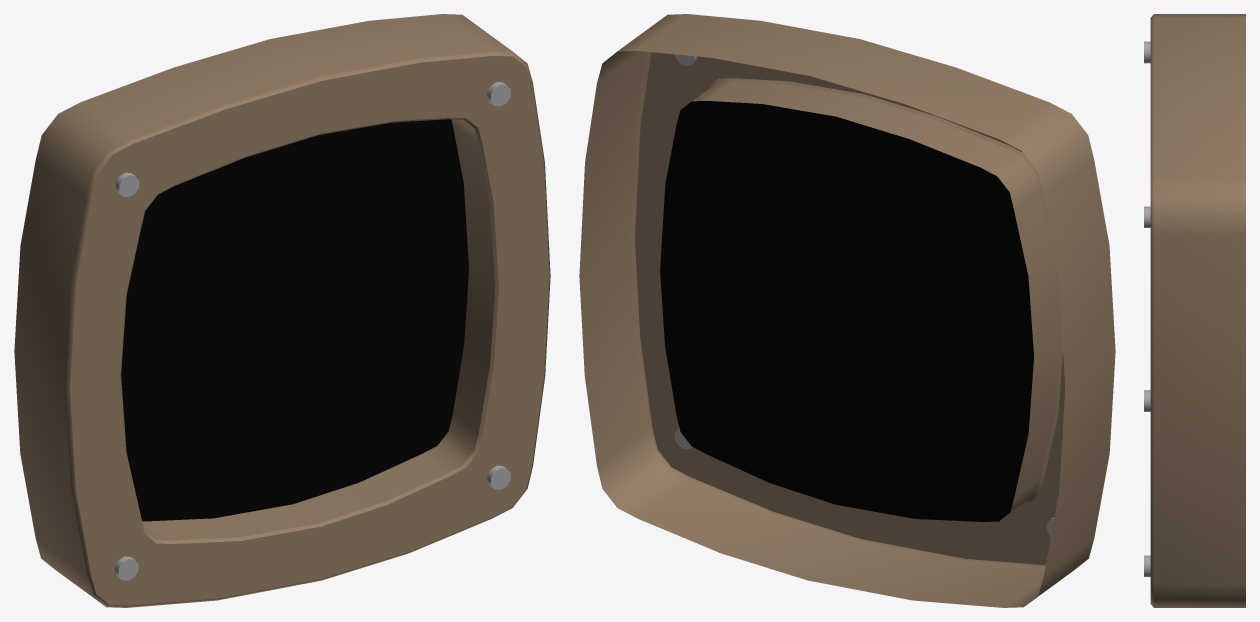
File: window_01_closed.fbx
The picture shows the model from 3 angles, left to right: view 1: azimuth 30°, elevation 25°; view 2: azimuth 150°, elevation 25°; view 3: azimuth 270°, elevation 25°; orthographic projection. The views are drawn at different scales.
Parts seen in each view (by area): view 1: window_01_closed; view 2: window_01_closed; view 3: window_01_closed.
Part boxes in pixels (x1,y1,x2,y2): window_01_closed: (14,14,550,607); window_01_closed: (579,14,1115,607); window_01_closed: (1144,14,1245,607).
Size of the model in its own units: 167 by 166 by 33.42.
